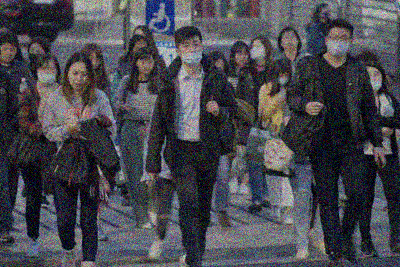mask_weared_incorrect: (181, 40, 203, 67), (36, 63, 59, 88), (366, 70, 385, 91)
with_mask: (327, 33, 352, 59), (249, 43, 268, 63), (27, 47, 47, 65), (278, 73, 291, 87)
without_mask: (68, 68, 90, 91), (1, 45, 19, 64), (281, 33, 300, 51), (233, 50, 250, 67), (137, 58, 155, 74), (87, 55, 102, 71)
